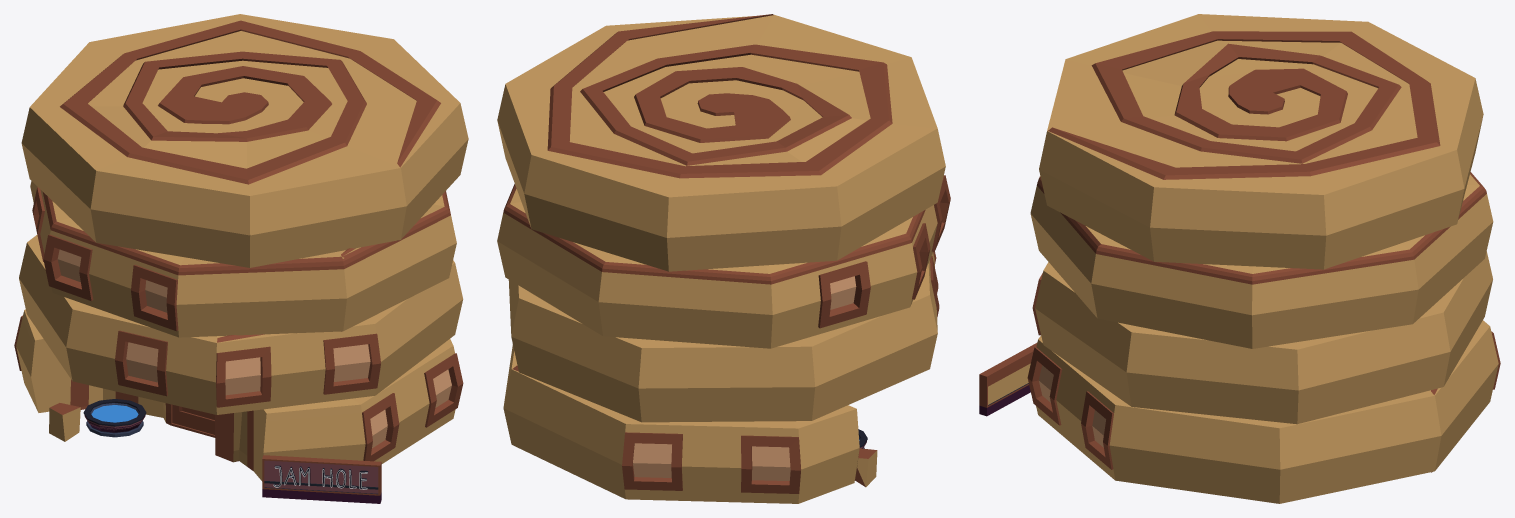
Rendered from JamHole.fbx.
The picture shows the model from 3 angles, left to right: view 1: azimuth 30°, elevation 25°; view 2: azimuth 150°, elevation 25°; view 3: azimuth 270°, elevation 25°; orthographic projection. The views are drawn at different scales.
Parts seen in each view (by area): view 1: Cylinder.029, Cylinder.025, Cylinder.028, Cylinder.024, Cube.1096, Cylinder.032, Cube.057, Text.033, Text.034; view 2: Cylinder.029, Cylinder.028, Cylinder.025, Cylinder.024; view 3: Cylinder.029, Cylinder.024, Cylinder.025, Cylinder.028, Cube.1096.
Boxes of the visible parts, bbox=[...] form: Cylinder.029: bbox=[21, 14, 468, 267]; Cylinder.025: bbox=[19, 235, 463, 415]; Cylinder.028: bbox=[30, 181, 456, 337]; Cylinder.024: bbox=[14, 309, 463, 481]; Cube.1096: bbox=[262, 455, 381, 503]; Cylinder.032: bbox=[83, 399, 146, 437]; Cube.057: bbox=[172, 404, 214, 434]; Text.033: bbox=[273, 465, 368, 488]; Text.034: bbox=[273, 466, 367, 489]; Cylinder.029: bbox=[497, 14, 945, 271]; Cylinder.028: bbox=[497, 175, 950, 348]; Cylinder.025: bbox=[508, 252, 939, 422]; Cylinder.024: bbox=[503, 344, 877, 503]; Cylinder.029: bbox=[1039, 14, 1483, 269]; Cylinder.024: bbox=[1027, 320, 1500, 503]; Cylinder.025: bbox=[1032, 251, 1492, 424]; Cylinder.028: bbox=[1030, 172, 1493, 348]; Cube.1096: bbox=[979, 343, 1037, 416].
Bounding box in the file's own units: 1377 × 1061 × 1542.
